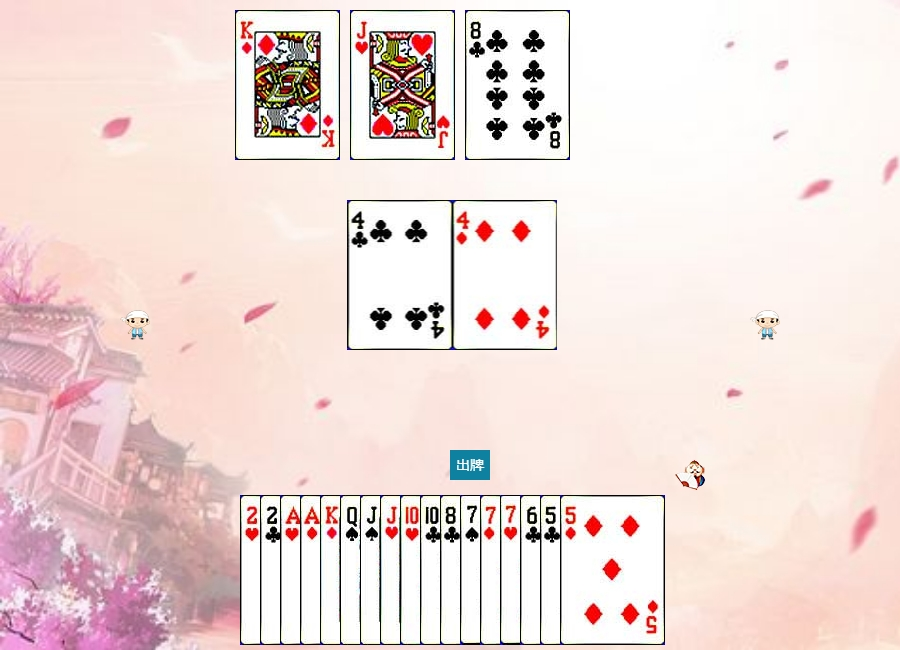10~2: (420, 495, 525, 645)
10~3: (400, 495, 505, 645)
11~3: (350, 10, 455, 160), (380, 495, 485, 645)
11~4: (360, 495, 465, 645)
12~4: (340, 495, 445, 645)
13~1: (235, 10, 340, 160), (320, 495, 425, 645)
14~1: (300, 495, 405, 645)
14~3: (280, 495, 385, 645)
15~2: (260, 495, 365, 645)
15~3: (240, 495, 345, 645)
4~1: (453, 200, 558, 350)
4~2: (348, 200, 453, 350)
5~1: (560, 495, 665, 645)
5~2: (540, 495, 645, 645)
6~2: (520, 495, 625, 645)
7~1: (480, 495, 585, 645)
7~3: (500, 495, 605, 645)
7~4: (460, 495, 565, 645)
8~2: (465, 10, 570, 160), (440, 495, 545, 645)
